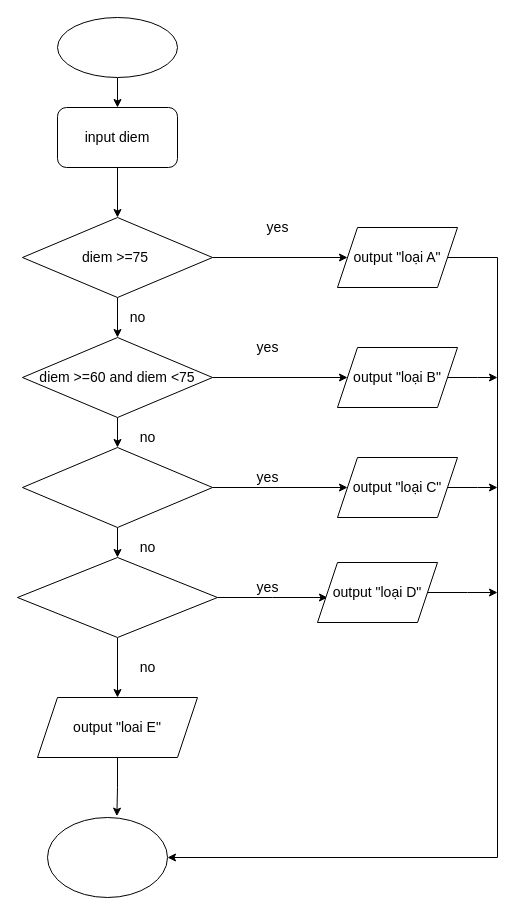
The diagram is 523 pixels wide and 915 high, and some of its shapes have lost their labels. The centre of each missing label's shape, as x and y in pixels:
"begin" goes at pixel 117 47.
"diem >=35 && diem <45" goes at pixel 117 597.
"diem >=45 and diem <60" goes at pixel 117 487.
"End" goes at pixel 107 857.
